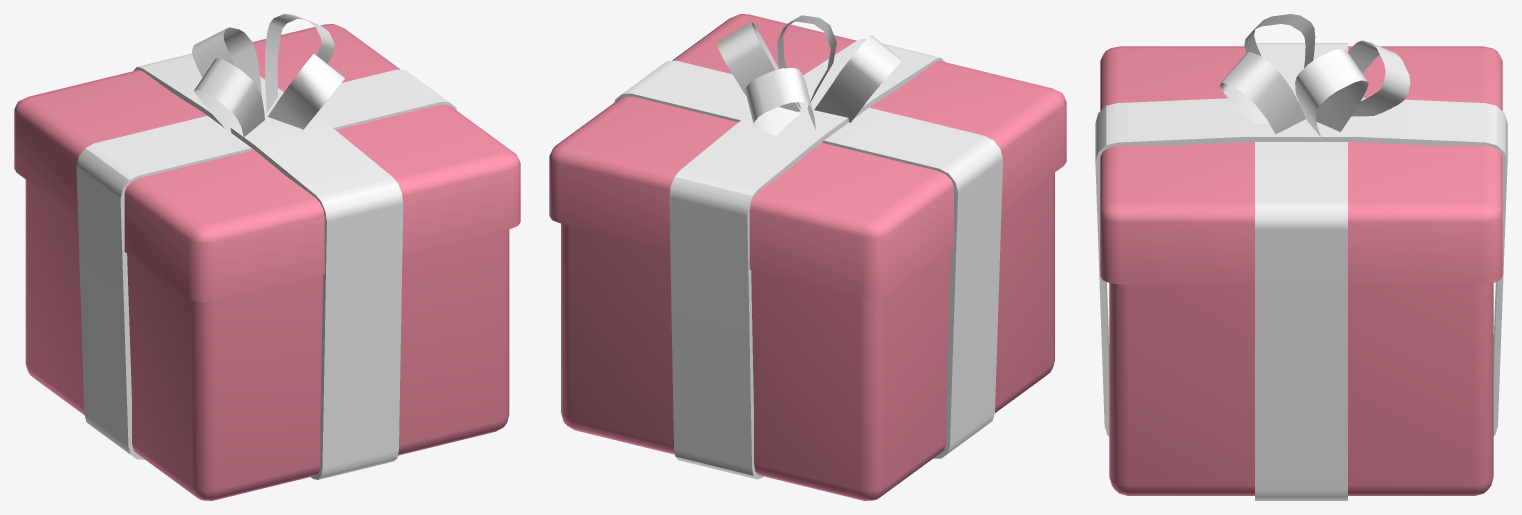
Rendered from giftBox_02.fbx.
The picture shows the model from 3 angles, left to right: view 1: azimuth 30°, elevation 25°; view 2: azimuth 150°, elevation 25°; view 3: azimuth 270°, elevation 25°; orthographic projection. The views are drawn at different scales.
Parts seen in each view (by area): view 1: giftBox_02; view 2: giftBox_02; view 3: giftBox_02.
Part boxes in pixels (left/top/right/bottom): giftBox_02: left=14, top=14, right=520, bottom=500; giftBox_02: left=549, top=14, right=1066, bottom=500; giftBox_02: left=1095, top=14, right=1507, bottom=500.
Size of the model in its own units: 3.14 by 3.32 by 3.14.
Materials: 1 (1 with a texture image).
